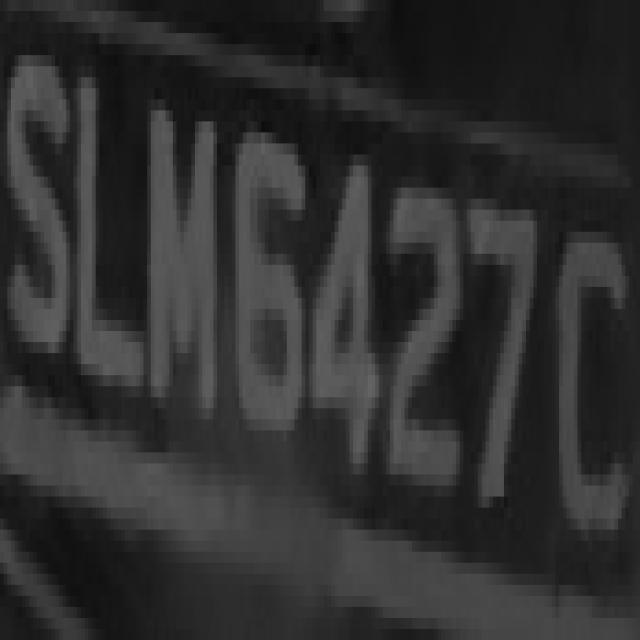2: (387, 121, 452, 518)
4: (305, 88, 394, 530)
6: (224, 77, 306, 530)
7: (452, 121, 537, 530)
C: (548, 132, 633, 552)
L: (66, 55, 147, 408)
M: (143, 66, 224, 442)
S: (4, 0, 70, 375)
